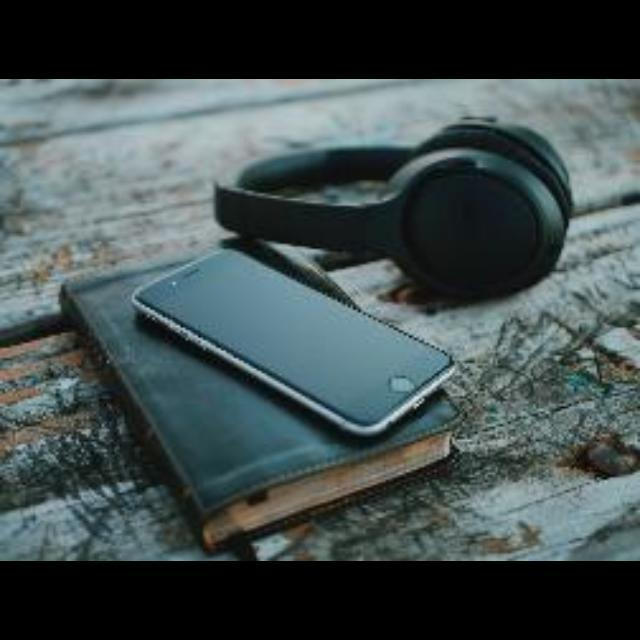PhoneUse: (134, 248, 460, 438)
